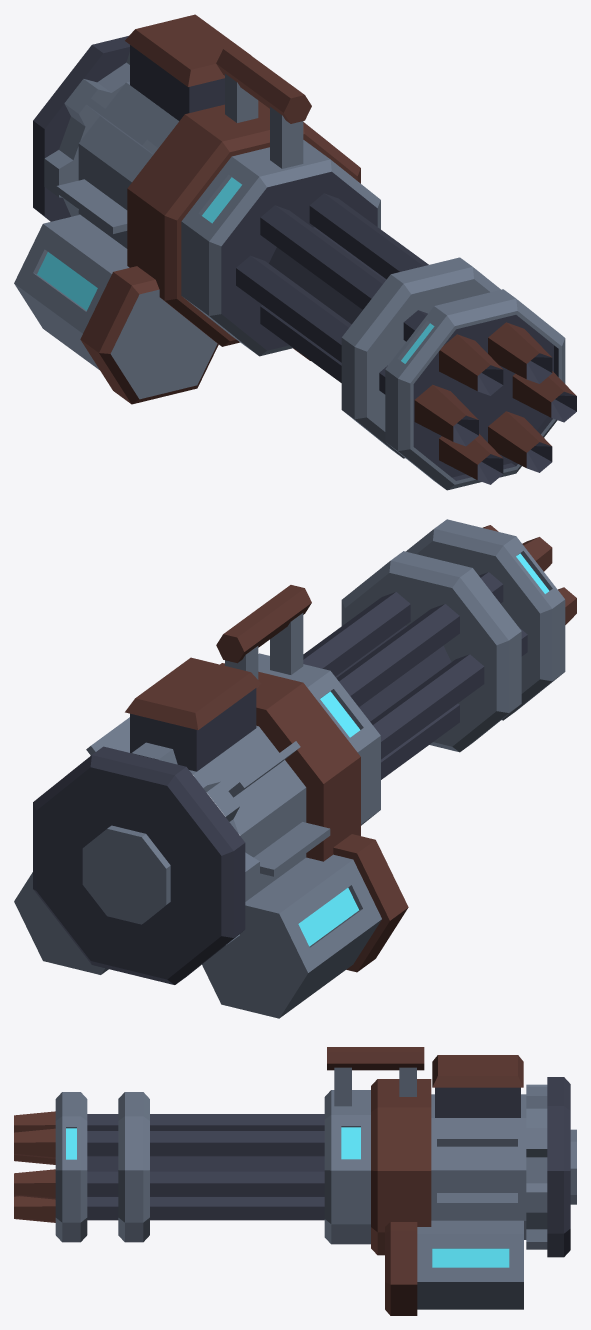
Rendered from rotary-cannon-e2114b.glb.
3 views of the same model, one above another, from view 1: azimuth 30°, elevation 25°; view 2: azimuth 150°, elevation 25°; view 3: azimuth 270°, elevation 25° (orthographic). The views are drawn at different scales.
Parts seen in each view (by area): view 1: body-metal, cluster-metal, body-crystal; view 2: body-metal, cluster-metal, body-crystal; view 3: body-metal, cluster-metal, body-crystal, cluster-crystal.
Part boxes in pixels (left/top/right/bottom): body-metal: left=14, top=14, right=380, bottom=404; cluster-metal: left=236, top=193, right=576, bottom=490; body-crystal: left=37, top=177, right=241, bottom=310; body-metal: left=14, top=585, right=408, bottom=1018; cluster-metal: left=303, top=519, right=576, bottom=779; body-crystal: left=298, top=691, right=359, bottom=946; body-metal: left=324, top=1047, right=576, bottom=1315; cluster-metal: left=14, top=1092, right=324, bottom=1242; body-crystal: left=341, top=1127, right=509, bottom=1267; cluster-crystal: left=66, top=1128, right=76, bottom=1159.
Bounding box in the file's own units: 0.5556 × 0.532 × 1.21.
